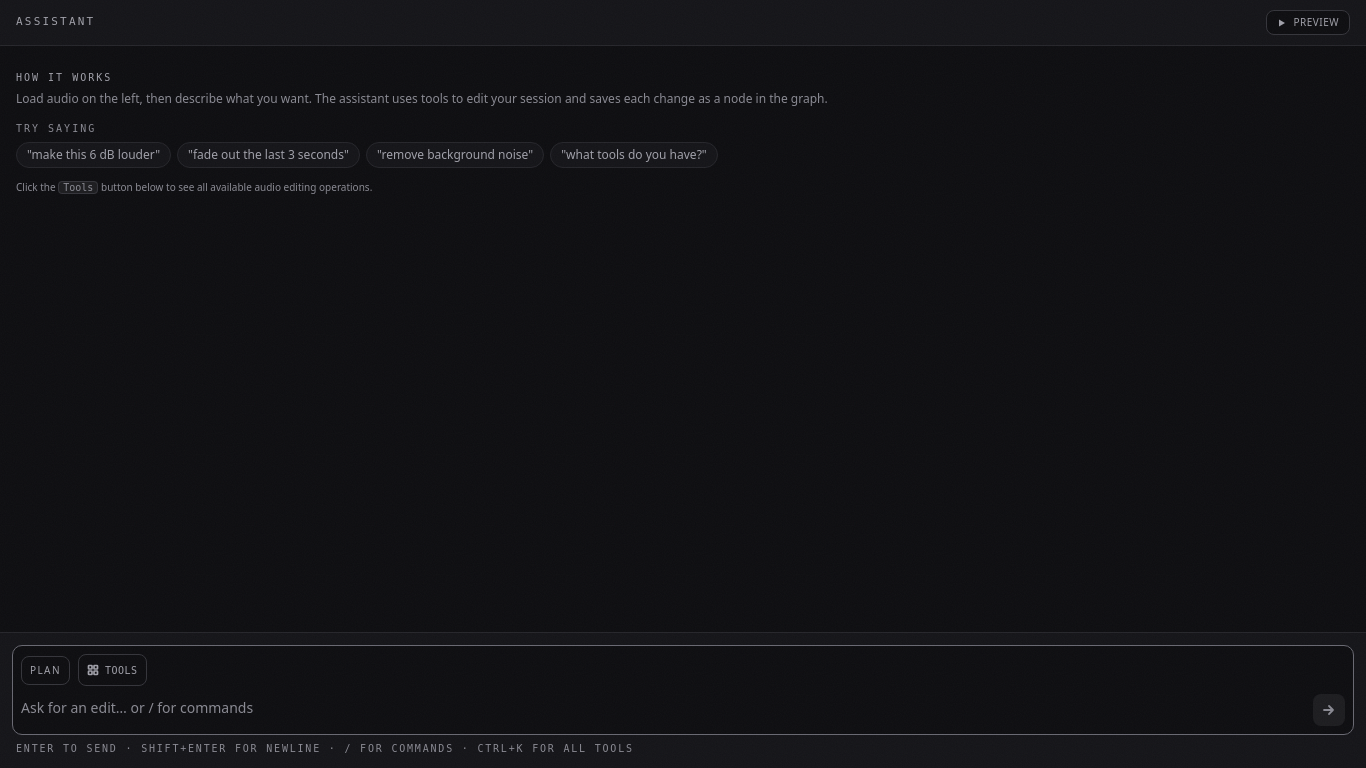
the plan-first toggle › puts the toggle back when the click failed and the backend cannot be asked
Step 1. Click the button with test id "plan-first-toggle" → {"x": 45, "y": 670}, box [21, 656, 70, 684]
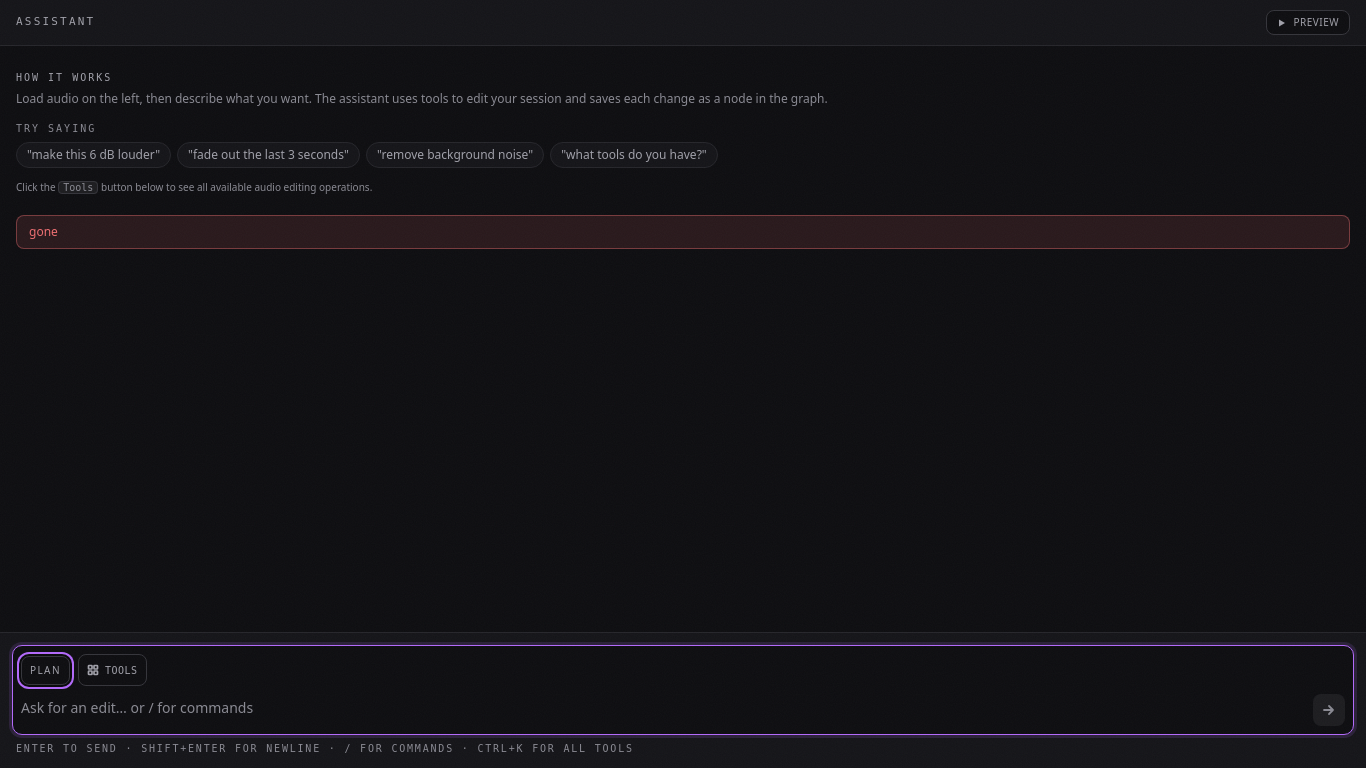
Expected: the message "gone" is shown, [16, 214, 1350, 248]
